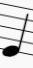note: (2, 2, 30, 59)
